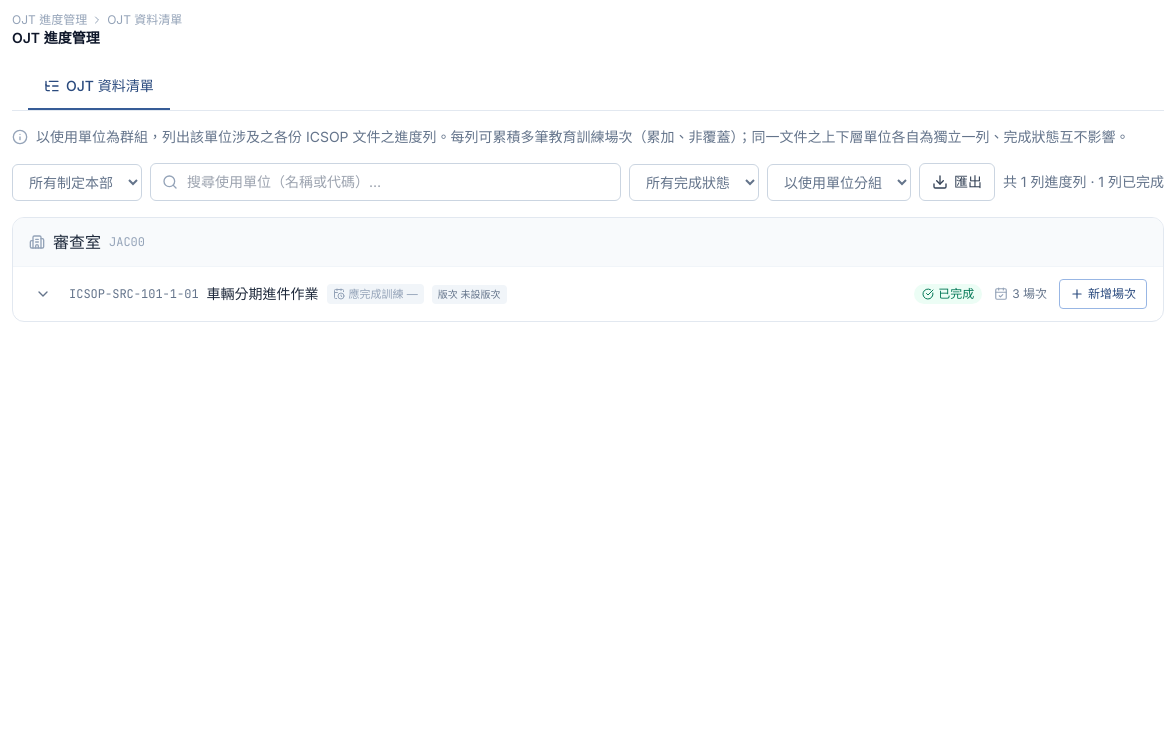
Test: AC-OV1 場次列之「檢視」鈕 › Supervisor：看得到檢視鈕
Step 1. Click the 2nd button → (43, 294), box x1=29 y1=280 x2=57 y2=308
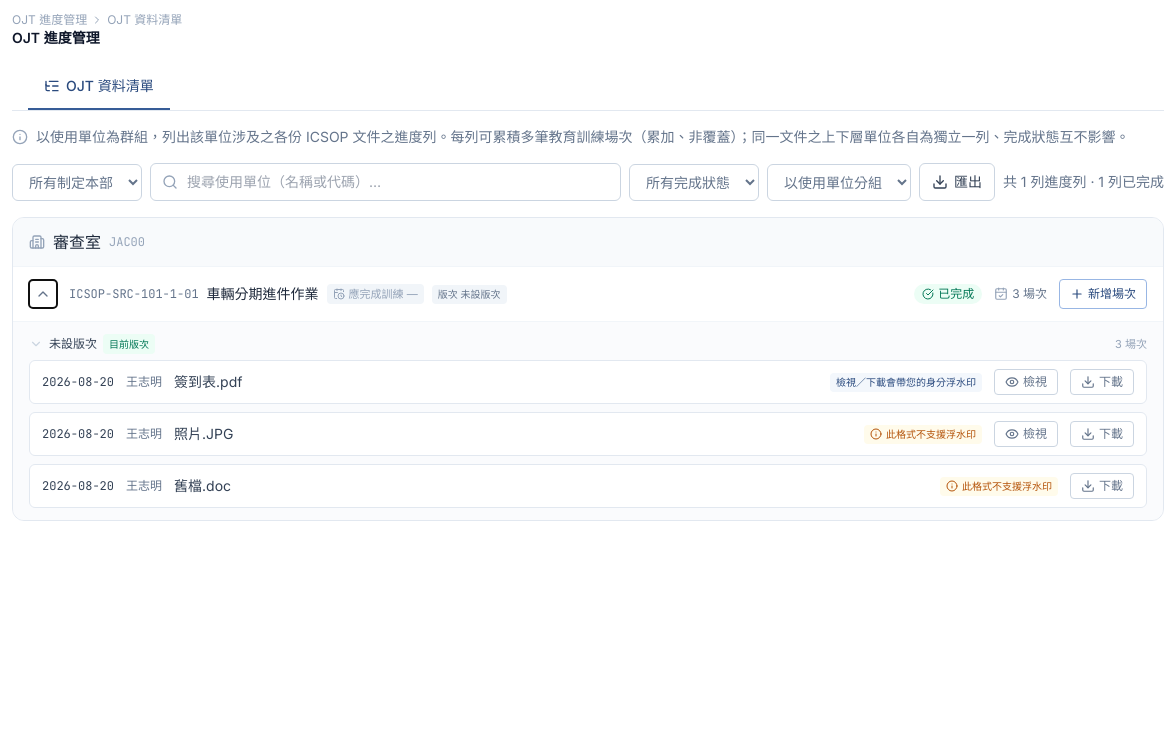
Expected: the element showing "2026-08-20 王志明 簽到表.pdf 檢視／下載會帶您的身分浮水印 檢視 下載" is shown, x1=29 y1=360 x2=1147 y2=404
Expected: the button "檢視" next to "檢視／下載會帶您的身分浮水印" is shown, x1=994 y1=369 x2=1058 y2=395
